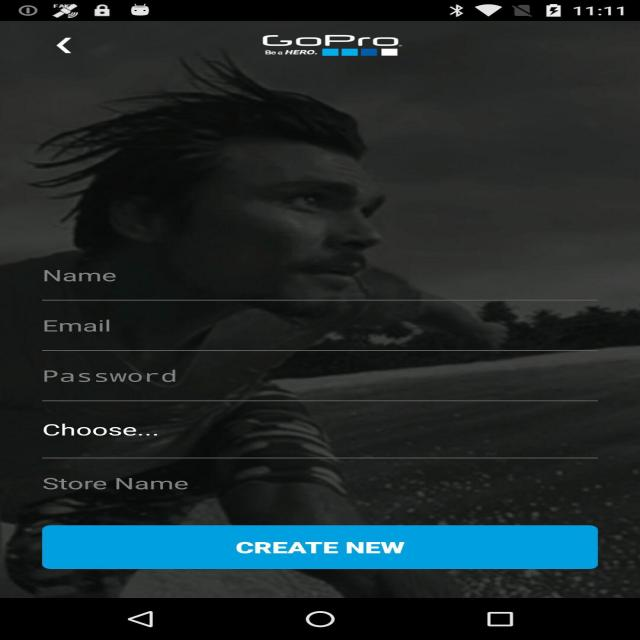button: (31, 516, 612, 576), (30, 407, 194, 452)
icon: (47, 34, 98, 59)
image: (26, 76, 533, 595), (247, 32, 420, 62)
text: (230, 536, 417, 562), (40, 474, 211, 493), (38, 368, 178, 388), (43, 419, 151, 444), (45, 263, 119, 287), (47, 317, 130, 337)
